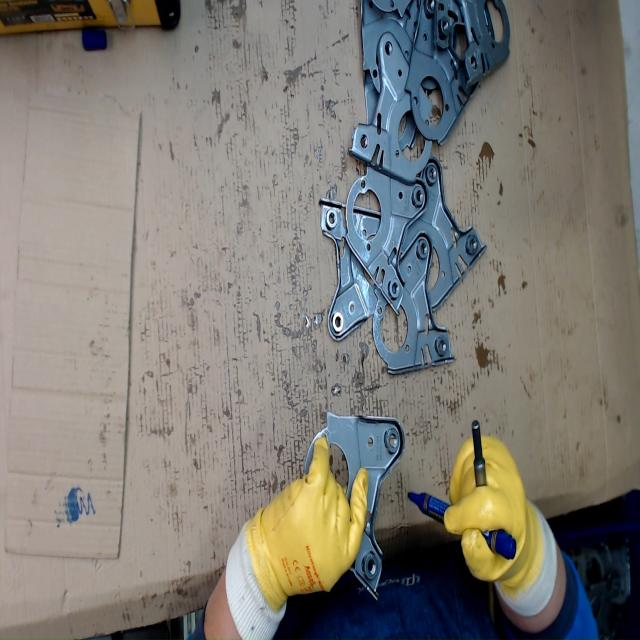hands: (252, 435, 370, 609), (444, 431, 539, 593)
